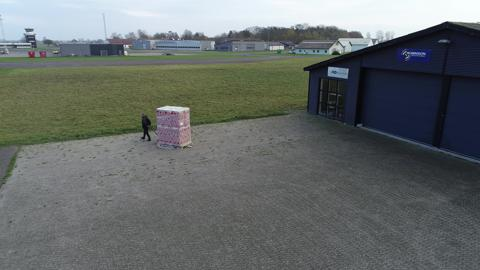RockwoolPallet: (155, 104, 193, 148)
